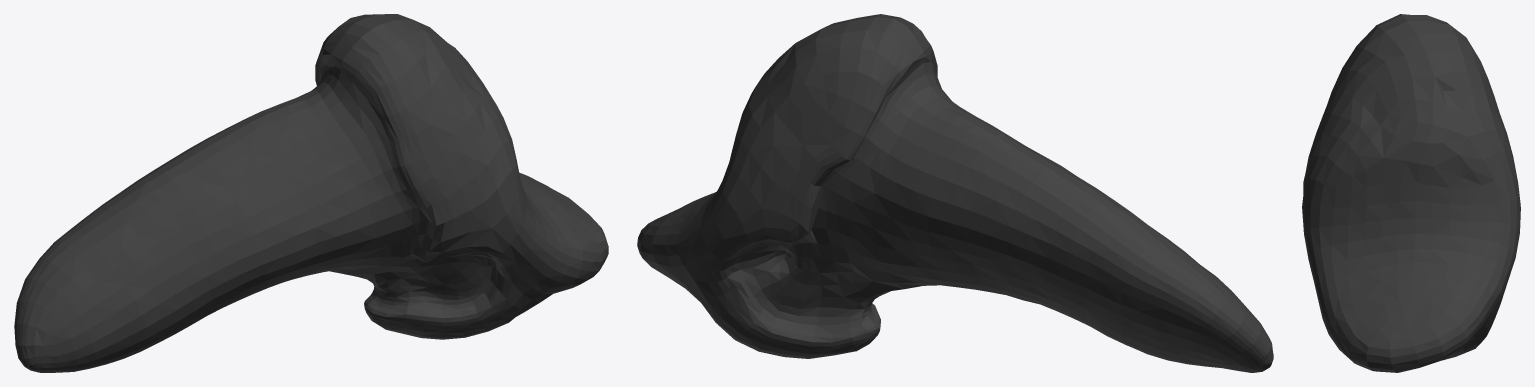
File: distal_phalanx_III_L.glb
3 views of the same model, side by side, from view 1: azimuth 30°, elevation 25°; view 2: azimuth 150°, elevation 25°; view 3: azimuth 270°, elevation 25° (orthographic). The views are drawn at different scales.
Parts seen in each view (by area): view 1: distal_phalanx_III_L; view 2: distal_phalanx_III_L; view 3: distal_phalanx_III_L.
Boxes of the visible parts, box(x1,y1,x2,y2) form: distal_phalanx_III_L: box(14, 14, 608, 372); distal_phalanx_III_L: box(637, 14, 1273, 372); distal_phalanx_III_L: box(1302, 14, 1520, 372).
Bounding box in the file's own units: 0.0307 × 0.0166 × 0.0107.
Materials: 1 (1 with a texture image).
